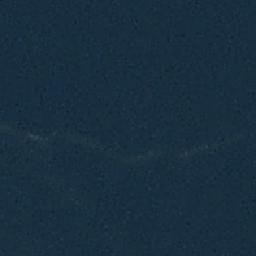debris: (27, 131, 43, 140)
